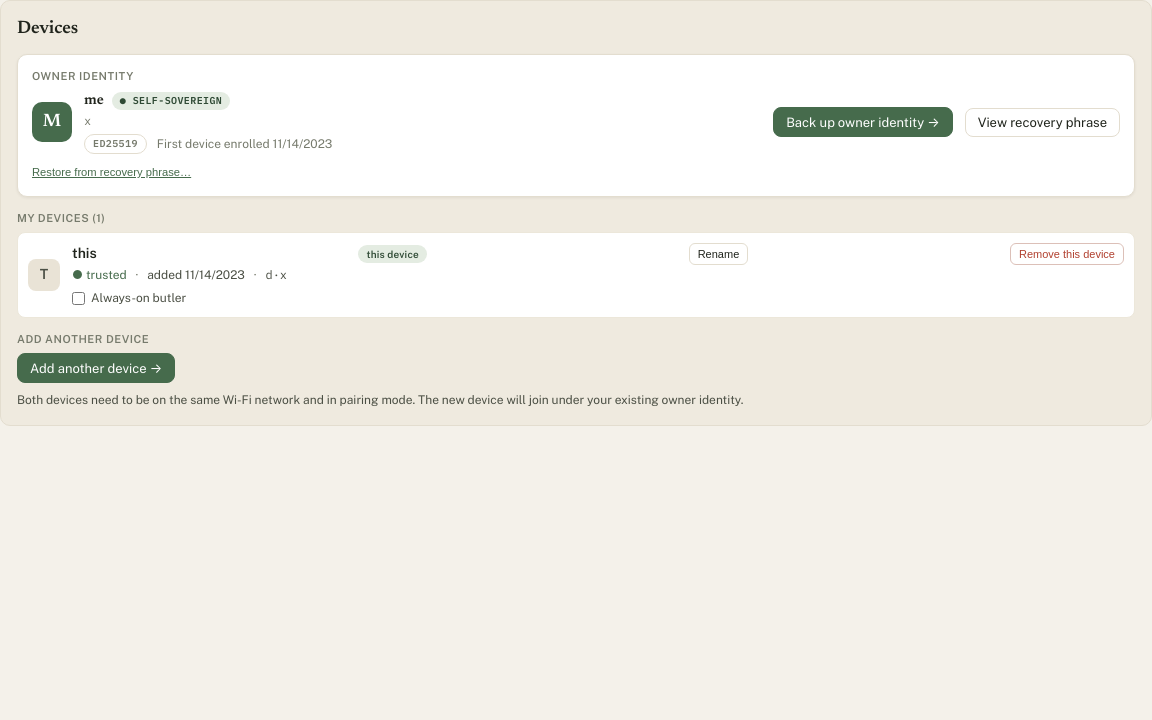
DevicesPanel — backup wiring › clicking Back up opens the backup modal and issues a token if needed
Click the button "Back up owner identity →".
click(863, 122)  # box [773,107,953,137]
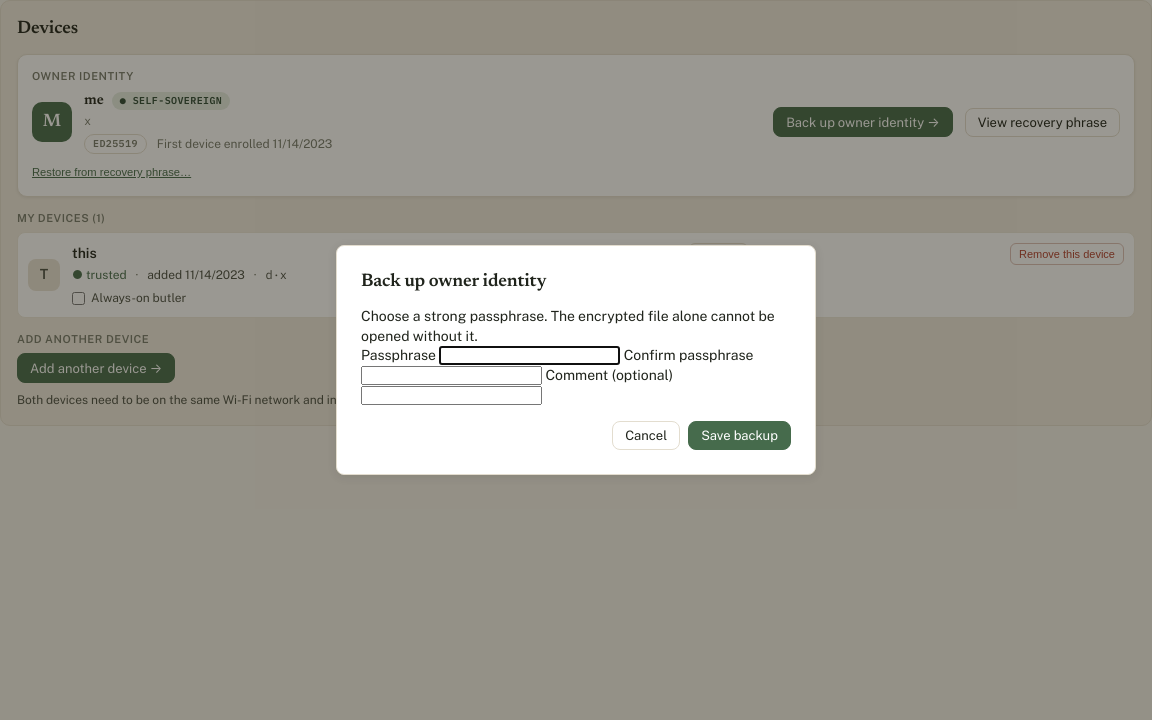
Result: the dialog is shown at [336,245,816,475]
